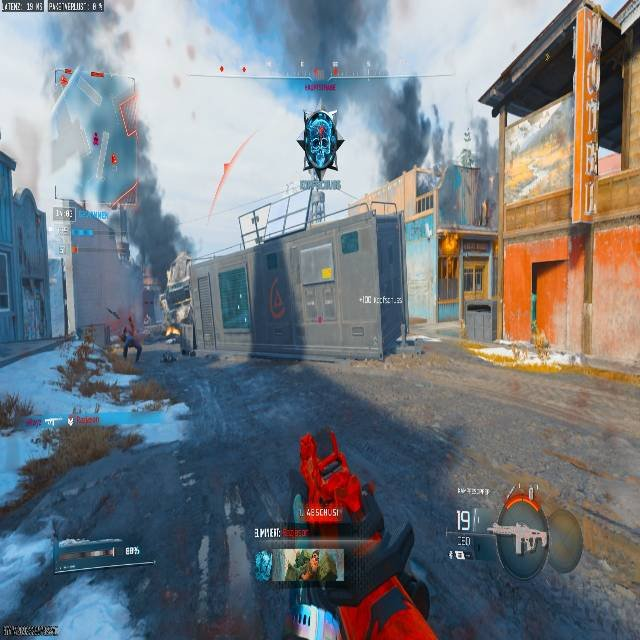player: (120, 317, 143, 363)
